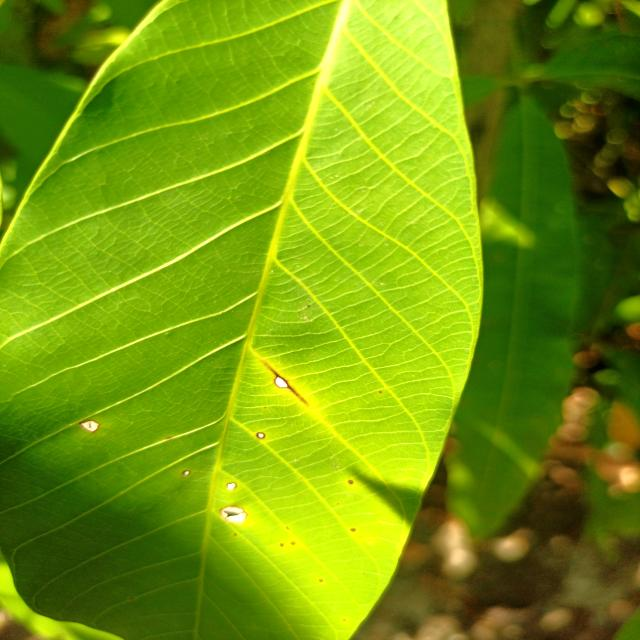Colletotrichum: (220, 505, 248, 524), (79, 420, 101, 433), (273, 376, 290, 389), (226, 482, 237, 489), (255, 432, 265, 439), (182, 470, 190, 475)
